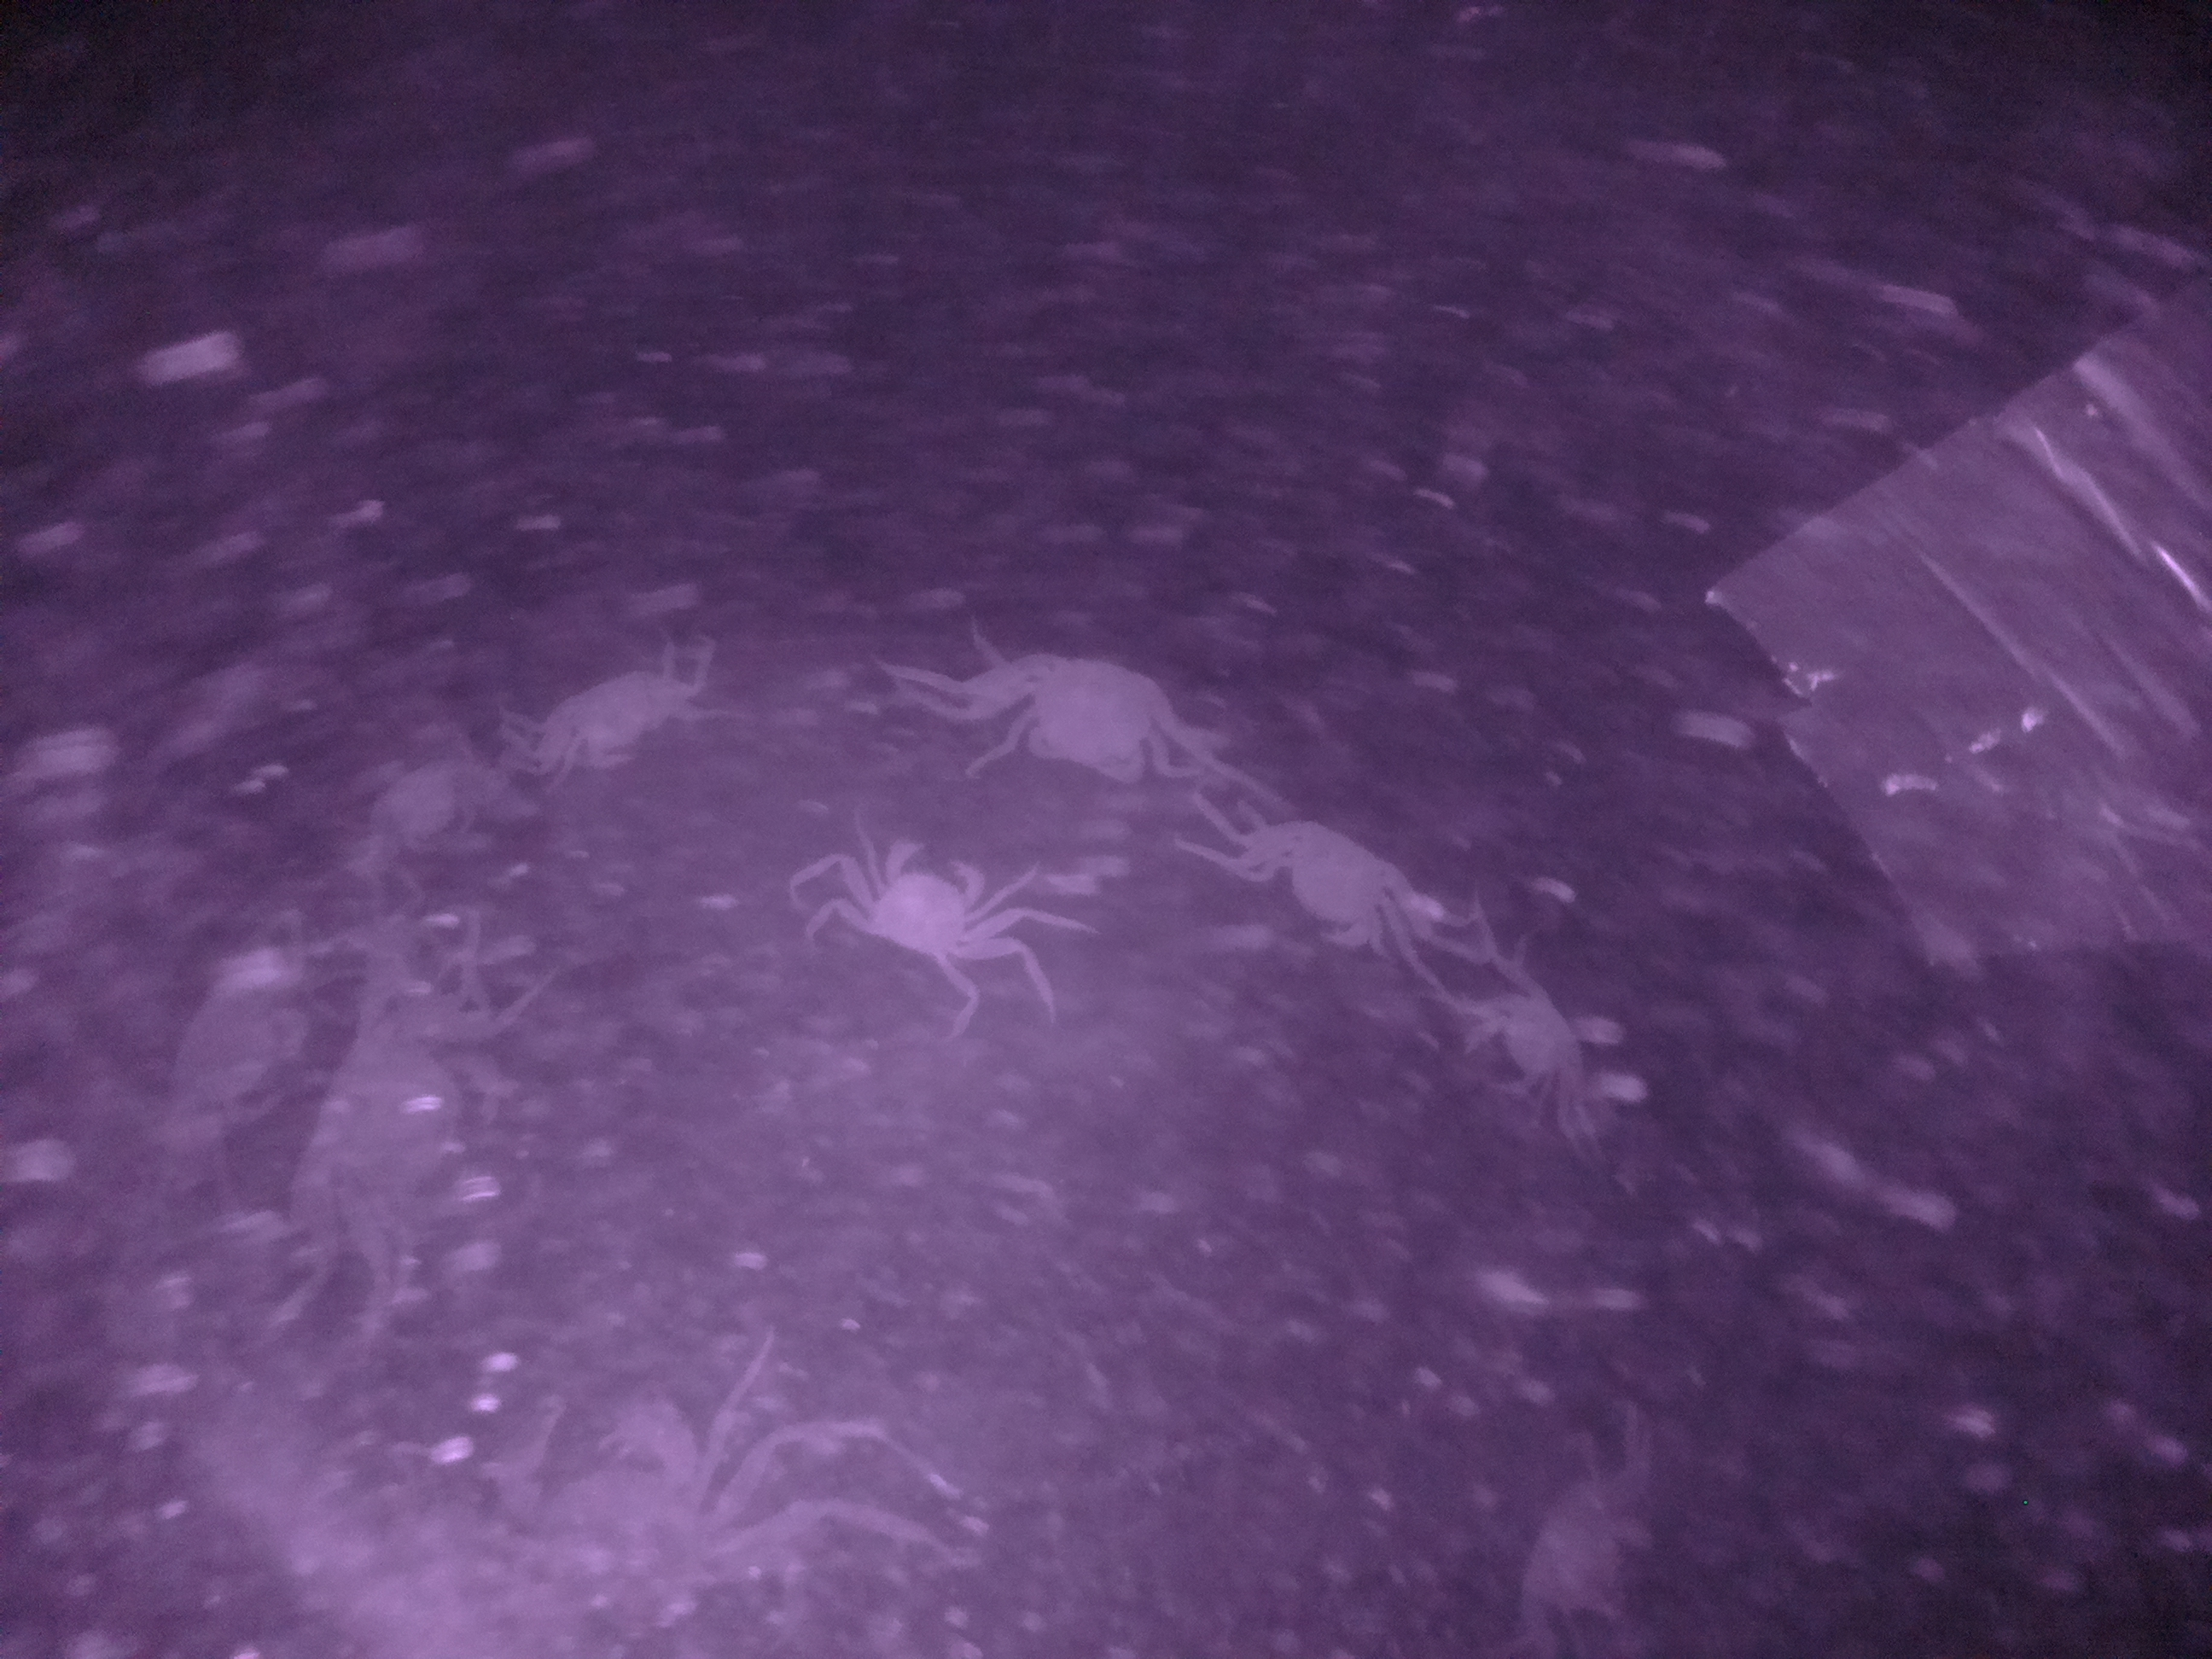Crab: (963, 636, 1198, 800), (1212, 803, 1449, 964), (840, 842, 1010, 985)
